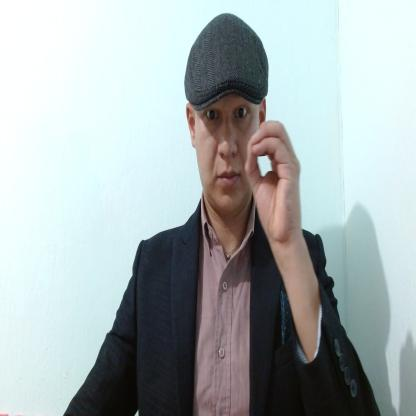O: (245, 119, 303, 248)
